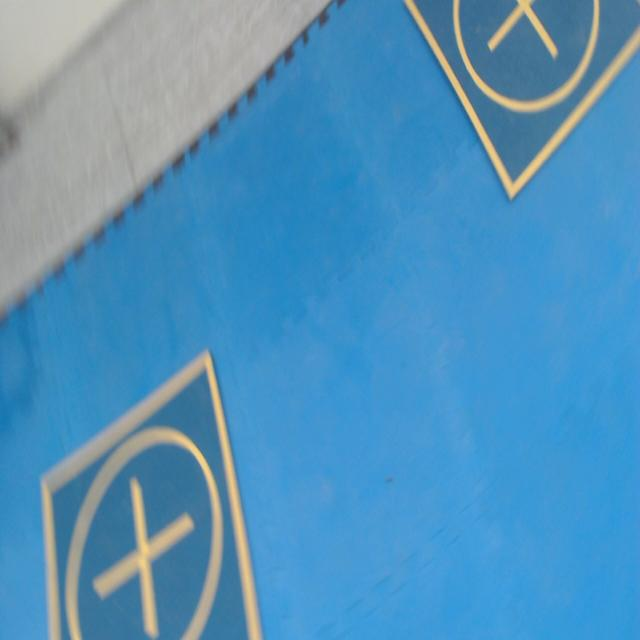base_pouso: (39, 347, 266, 639), (402, 0, 640, 204)
